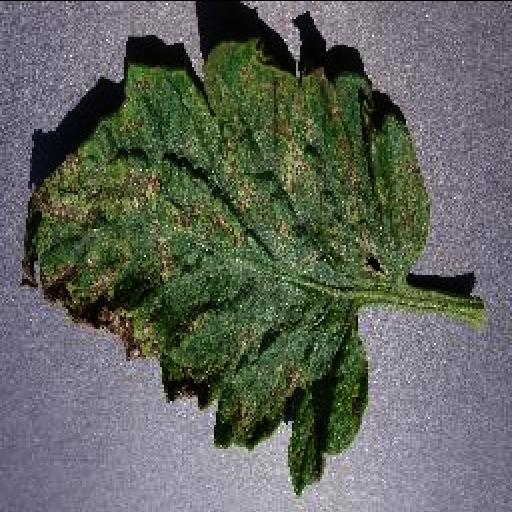disease_tomato: (18, 37, 430, 497)
